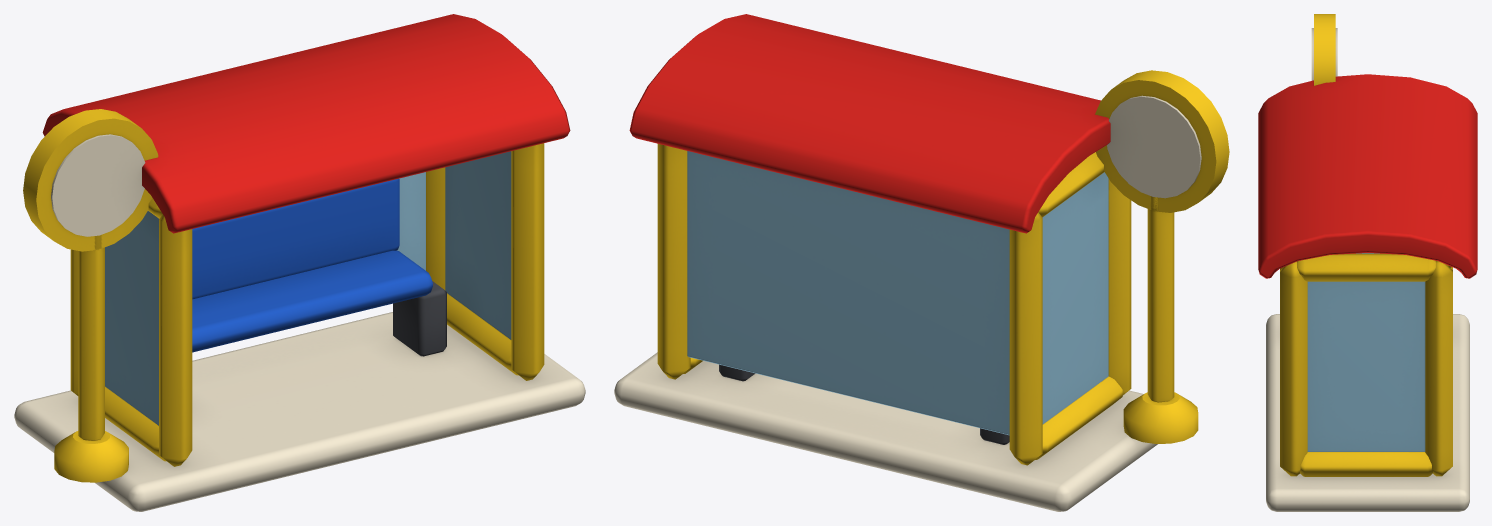
File: bus-stop.fbx
3 views of the same model, side by side, from view 1: azimuth 30°, elevation 25°; view 2: azimuth 150°, elevation 25°; view 3: azimuth 270°, elevation 25° (orthographic). The views are drawn at different scales.
Visible parts, largest first — view 1: bus-stop; view 2: bus-stop; view 3: bus-stop.
Part boxes in pixels (x1,y1,x2,y2): bus-stop: (14, 14, 585, 511); bus-stop: (614, 14, 1229, 511); bus-stop: (1258, 14, 1477, 511).
Size of the model in its own units: 1420 by 979 by 626.
1 material, 1 textured.
